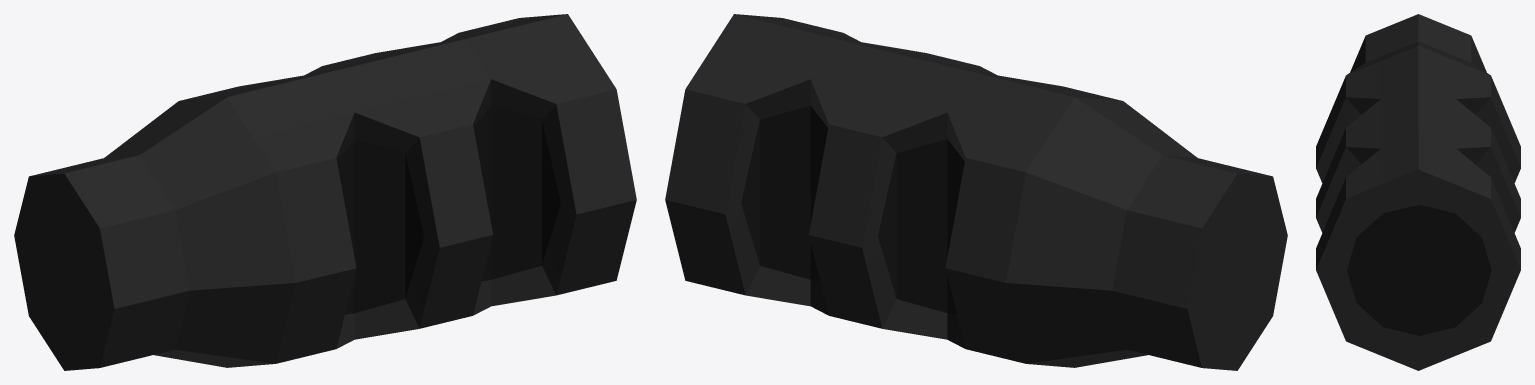
Rendered from Accesories_muzzlebrake_B_V1.FBX.
3 views of the same model, side by side, from view 1: azimuth 30°, elevation 25°; view 2: azimuth 150°, elevation 25°; view 3: azimuth 270°, elevation 25° (orthographic). The views are drawn at different scales.
Parts seen in each view (by area): view 1: Accesories_muzzlebrake_B_V1; view 2: Accesories_muzzlebrake_B_V1; view 3: Accesories_muzzlebrake_B_V1.
Boxes of the visible parts, x1,y1,x2,y2 form: Accesories_muzzlebrake_B_V1: (14,14,636,370); Accesories_muzzlebrake_B_V1: (665,14,1287,370); Accesories_muzzlebrake_B_V1: (1316,14,1520,370).
Size of the model in its own units: 66.08 by 33.95 by 31.31.
